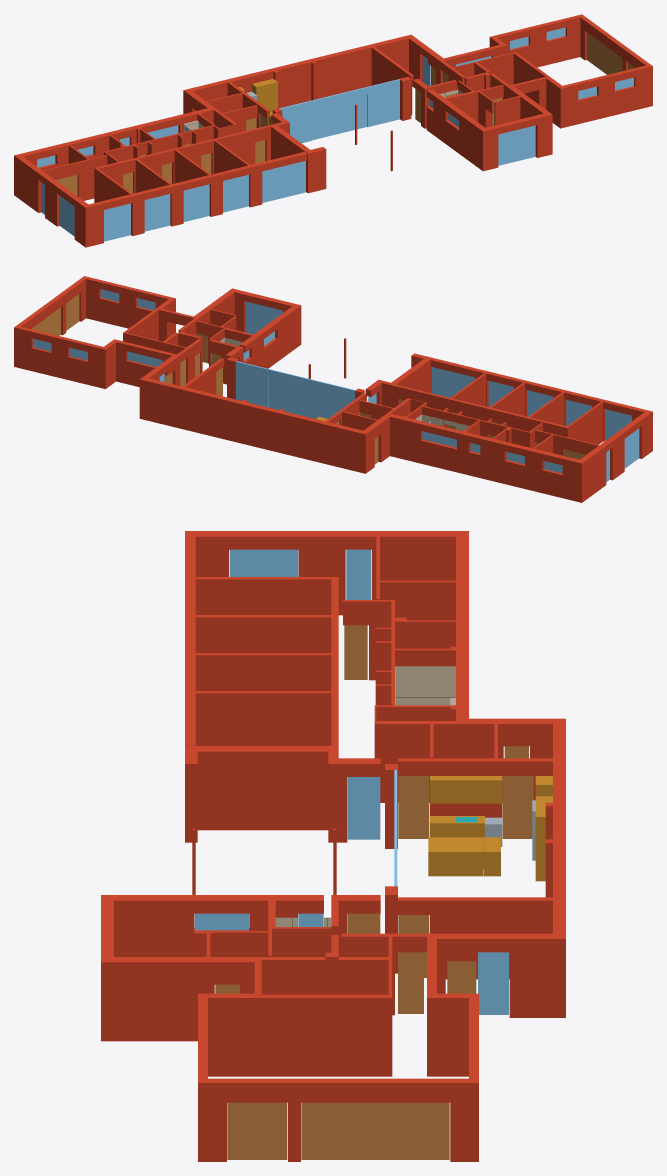
The model's file is ground_floor.glb.
3 views of the same model, one above another, from view 1: azimuth 30°, elevation 25°; view 2: azimuth 150°, elevation 25°; view 3: azimuth 270°, elevation 25° (orthographic). The views are drawn at different scales.
Parts seen in each view (by area): view 1: masonry (×36), glazing (×9), door; view 2: masonry (×33), glazing (×9), door (×2); view 3: masonry (×37), door (×7), glazing (×5).
Part boxes in pixels (left/top/right/bottom): masonry (×36): left=14, top=14, right=652, bottom=247; glazing (×9): left=59, top=79, right=535, bottom=241; door: left=587, top=32, right=622, bottom=74; masonry (×33): left=14, top=276, right=652, bottom=502; glazing (×9): left=236, top=301, right=639, bottom=468; door (×2): left=31, top=294, right=79, bottom=335; masonry (×37): left=101, top=531, right=565, bottom=1161; door (×7): left=227, top=625, right=533, bottom=1159; glazing (×5): left=194, top=549, right=508, bottom=1014.
Bounding box in the file's own units: 45.05 × 3.05 × 16.05.
